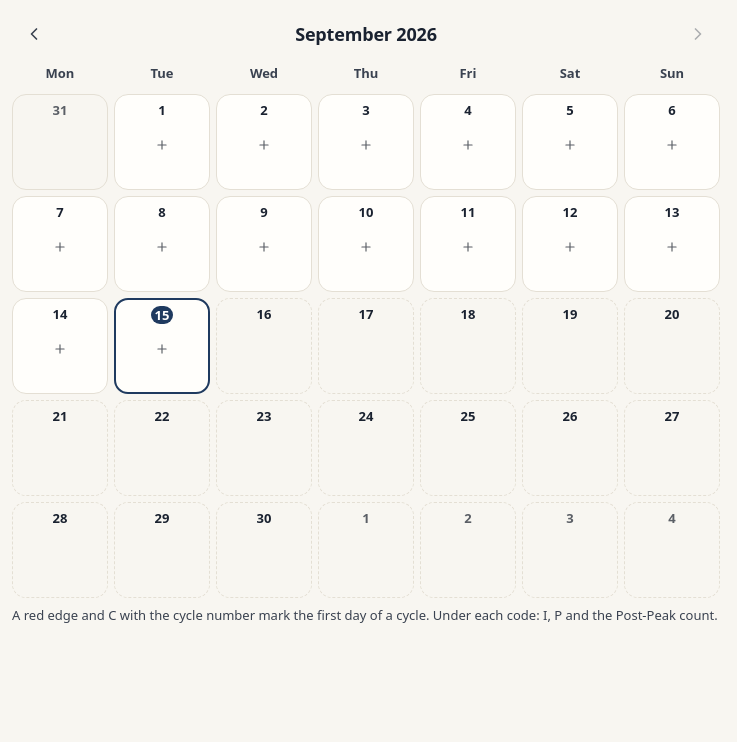
CalendarGrid swipe › opens the previous month after a swipe to the right, and the next after a swipe to the left
Press the mouse on the panel: point(366, 318) [11,12,720,624]
Wait 450 ms
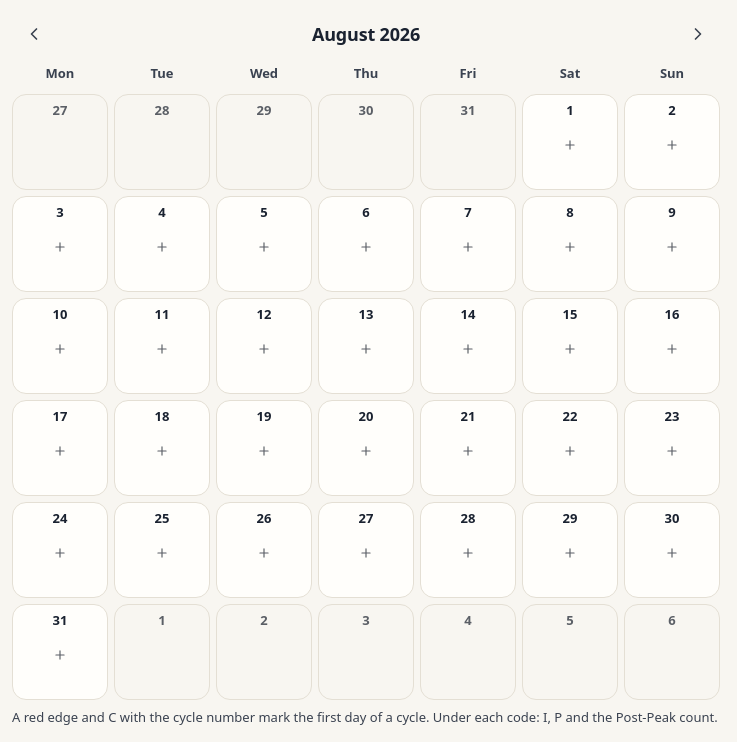
Expected: the heading "August 2026" is shown, [312,20,420,48]
Press the mouse on the panel: point(366, 369) [11,12,720,726]
Wait 450 ms
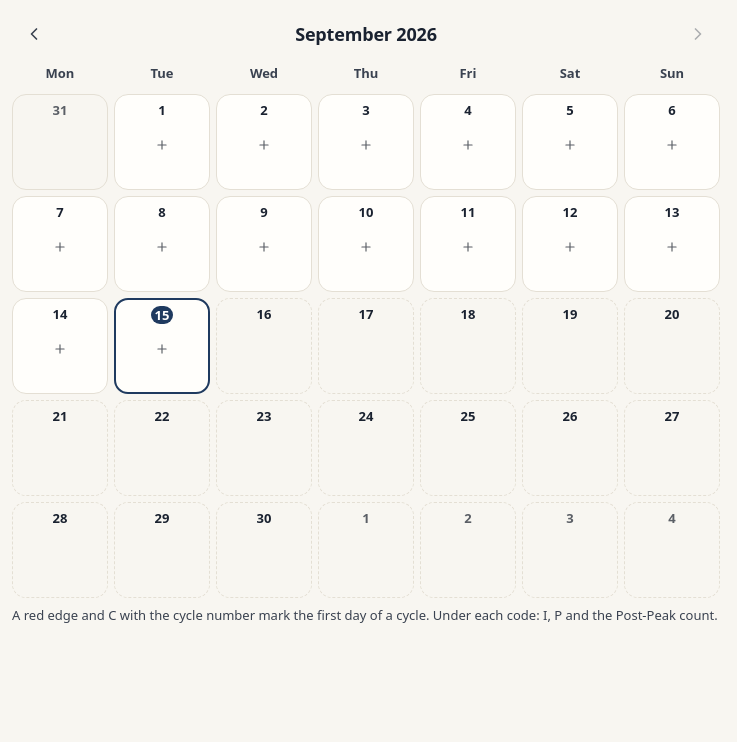
Expected: the heading "September 2026" is shown, [295,20,437,48]
